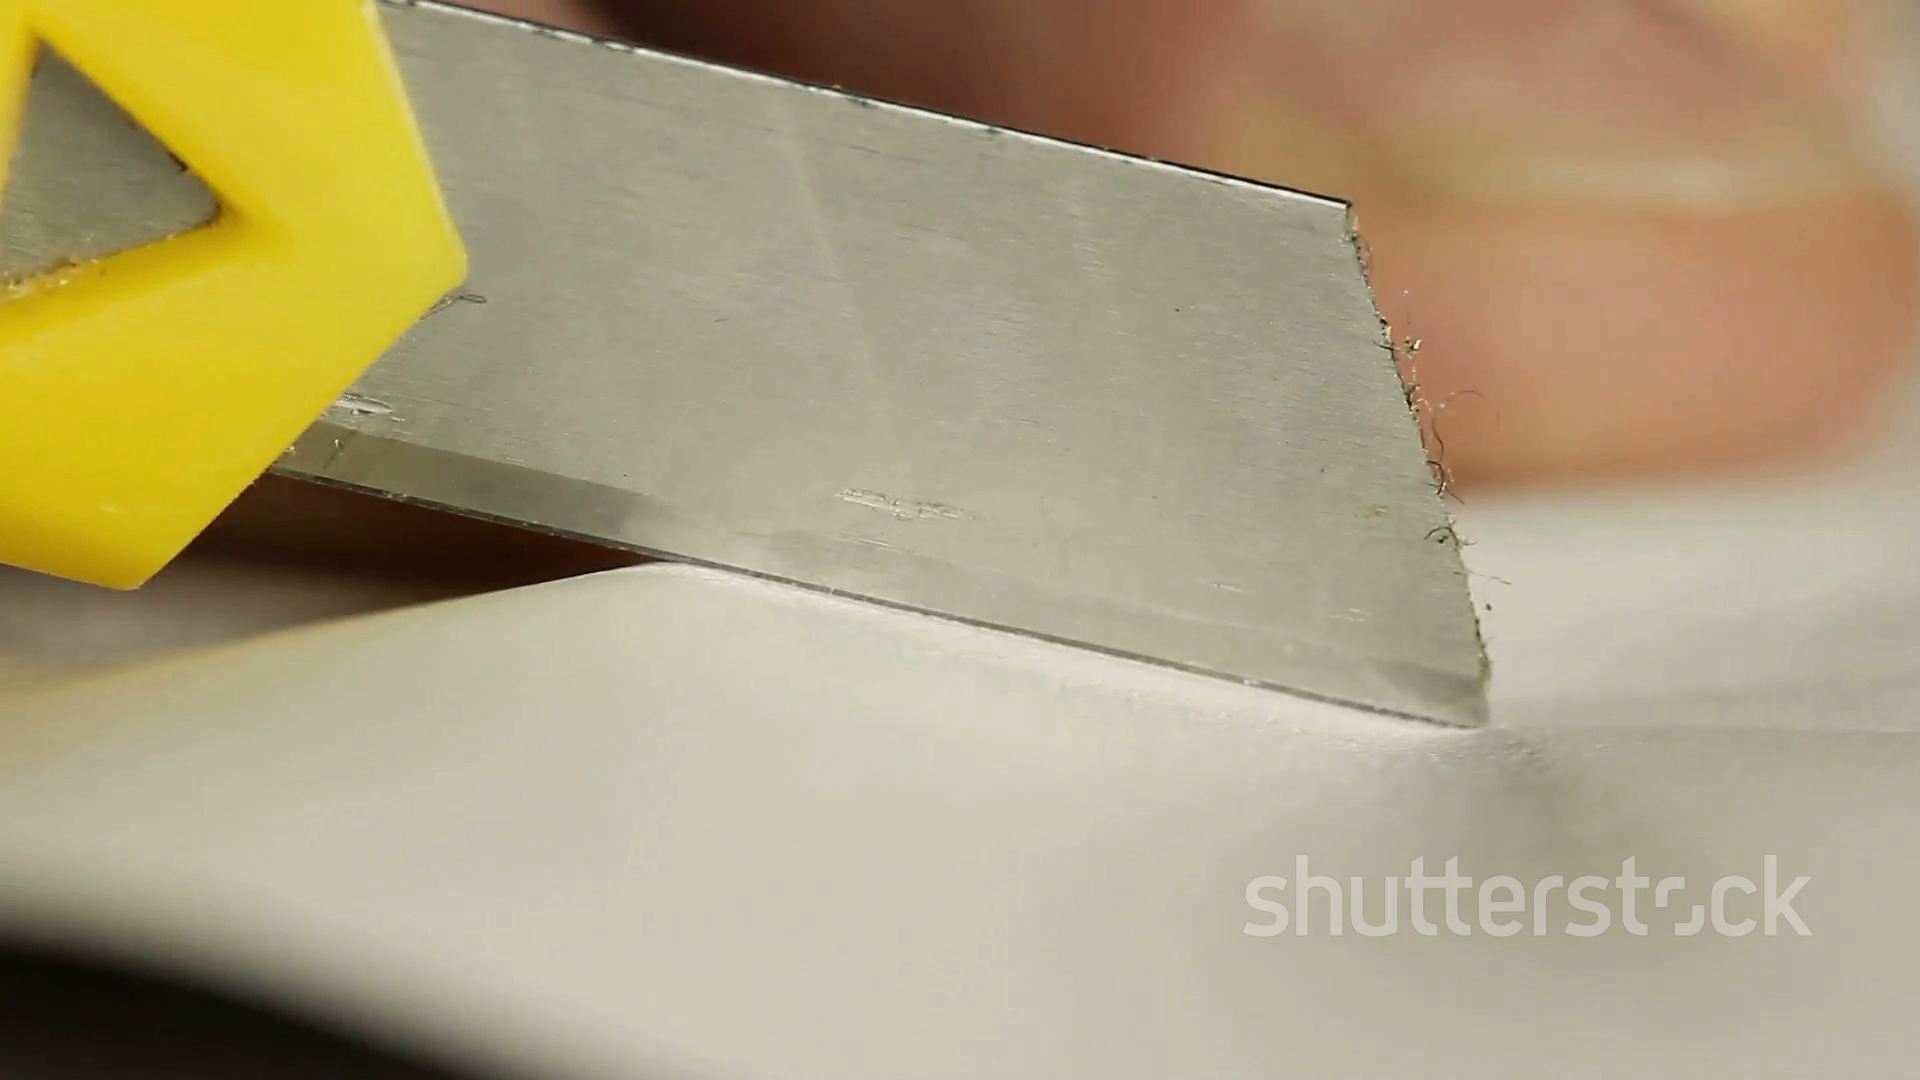cortante: (268, 0, 1486, 731)
